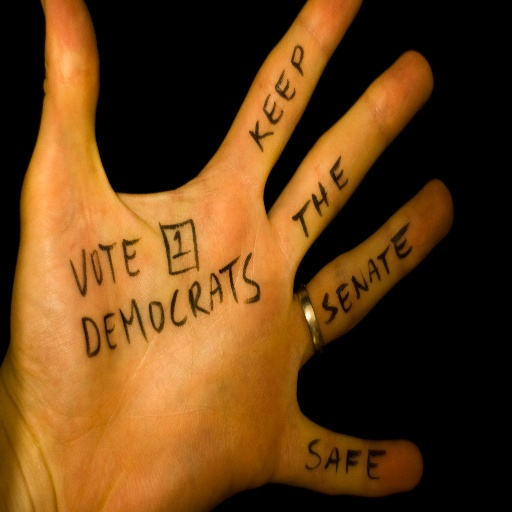hand: (0, 0, 456, 511)
